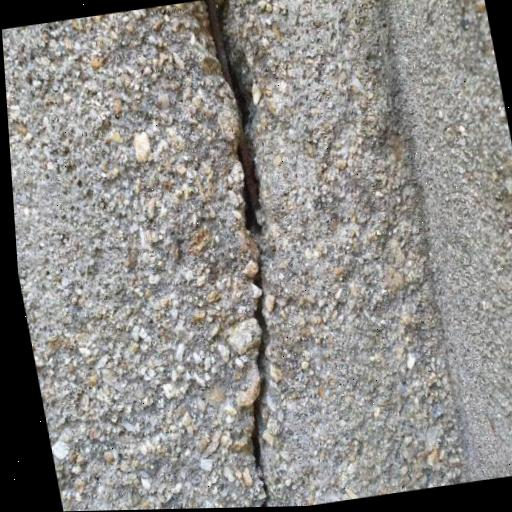exposed_rebar: (205, 0, 261, 231)
